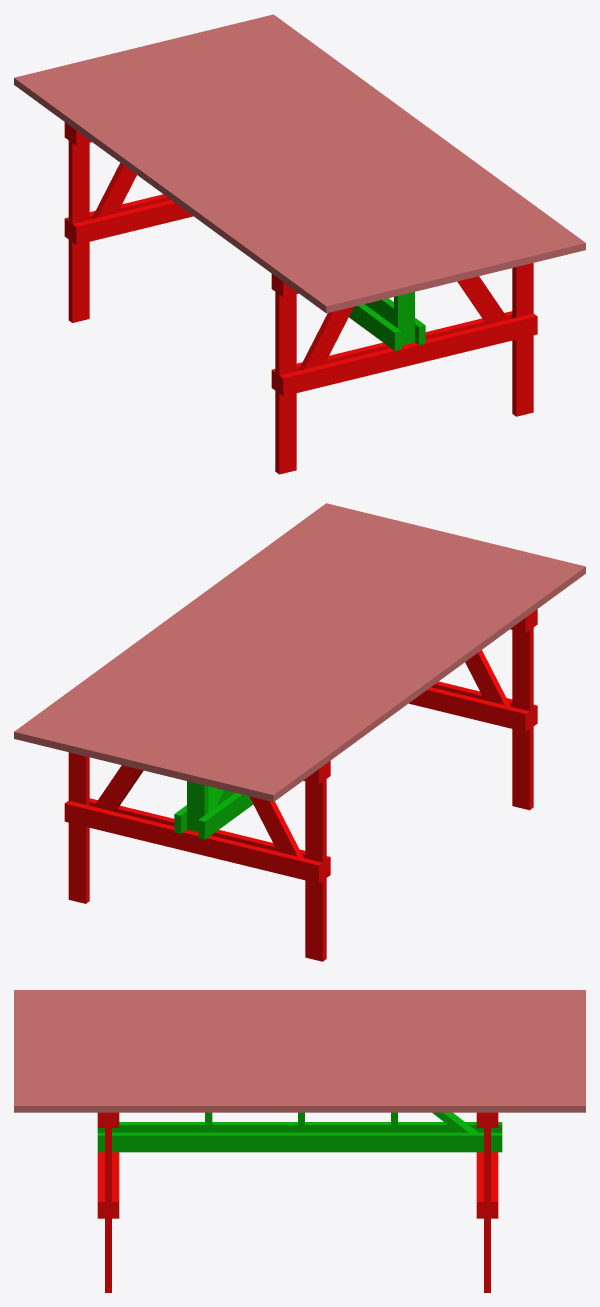
File: result.glb
The picture shows the model from 3 angles, top to bottom: view 1: azimuth 30°, elevation 25°; view 2: azimuth 150°, elevation 25°; view 3: azimuth 270°, elevation 25°; orthographic projection. The views are drawn at different scales.
Parts seen in each view (by area): view 1: ff30fadf-9fd4-4460-b9af-528bba397c96__Box, ecfba4b0-eb19-46f8-b625-1f164b38d694__sideH, f0267dfd-1396-4410-a234-d0a5b7590a91__undefined, c6a15cda-03ce-4eae-a5df-9830ccdbe96c__undefined, 0d041573-73fd-4c3e-86c7-4be7f45e7525__undefined, fd6624e3-aabb-444b-9470-ac1059b74ae4__undefined, b656d0b0-bee2-47a8-992f-ea572095d2c0__undefined, 45e07be2-b159-4d17-8b0f-6de6e1b23dd9__undefined, d5cece6e-28a9-4035-b784-eeb7340c6a91__undefined, b7d380f0-2ca9-485d-a0a3-1e6de936ee43__undefined, 65f79339-eb21-4aed-aa20-7c1461109333__undefined, ffa52356-f528-431c-ac40-7137b44c8f38__undefined (+15 smaller); view 2: ff30fadf-9fd4-4460-b9af-528bba397c96__Box, ed7a1a37-656c-497f-8932-6e6e6306face__undefined, f0267dfd-1396-4410-a234-d0a5b7590a91__undefined, ffa52356-f528-431c-ac40-7137b44c8f38__undefined, cba48144-3858-4e5d-9fff-8bc1c705c9df__undefined, d5cece6e-28a9-4035-b784-eeb7340c6a91__undefined, 65f79339-eb21-4aed-aa20-7c1461109333__undefined, 06f55df5-beb8-47b3-9442-8da3eeb8afaa__undefined, 0d041573-73fd-4c3e-86c7-4be7f45e7525__undefined, fd6624e3-aabb-444b-9470-ac1059b74ae4__undefined, b656d0b0-bee2-47a8-992f-ea572095d2c0__undefined, b7d380f0-2ca9-485d-a0a3-1e6de936ee43__undefined (+14 smaller); view 3: ffa52356-f528-431c-ac40-7137b44c8f38__undefined, ca68fd7f-96bd-4a73-a2cf-4c4941e26a8e__strutH, cba48144-3858-4e5d-9fff-8bc1c705c9df__undefined, c6a15cda-03ce-4eae-a5df-9830ccdbe96c__undefined, f6a6006f-34bd-4ca8-b8a2-3bc26f44ac62__undefined, 06f55df5-beb8-47b3-9442-8da3eeb8afaa__undefined, f0267dfd-1396-4410-a234-d0a5b7590a91__undefined, b656d0b0-bee2-47a8-992f-ea572095d2c0__undefined, ff30fadf-9fd4-4460-b9af-528bba397c96__Box, 45e07be2-b159-4d17-8b0f-6de6e1b23dd9__undefined, d5cece6e-28a9-4035-b784-eeb7340c6a91__undefined, b7d380f0-2ca9-485d-a0a3-1e6de936ee43__undefined (+12 smaller).
Boxes of the visible parts, x1,y1,x2,y2 form: ff30fadf-9fd4-4460-b9af-528bba397c96__Box: (14, 73, 343, 313); ecfba4b0-eb19-46f8-b625-1f164b38d694__sideH: (279, 313, 537, 396); f0267dfd-1396-4410-a234-d0a5b7590a91__undefined: (187, 31, 516, 270); c6a15cda-03ce-4eae-a5df-9830ccdbe96c__undefined: (101, 52, 430, 292); 0d041573-73fd-4c3e-86c7-4be7f45e7525__undefined: (153, 39, 481, 279); fd6624e3-aabb-444b-9470-ac1059b74ae4__undefined: (222, 23, 551, 262); b656d0b0-bee2-47a8-992f-ea572095d2c0__undefined: (239, 18, 568, 258); 45e07be2-b159-4d17-8b0f-6de6e1b23dd9__undefined: (31, 69, 360, 308); d5cece6e-28a9-4035-b784-eeb7340c6a91__undefined: (66, 61, 395, 300); b7d380f0-2ca9-485d-a0a3-1e6de936ee43__undefined: (83, 56, 412, 296); 65f79339-eb21-4aed-aa20-7c1461109333__undefined: (135, 44, 464, 283); ffa52356-f528-431c-ac40-7137b44c8f38__undefined: (257, 14, 585, 253); ff30fadf-9fd4-4460-b9af-528bba397c96__Box: (256, 562, 585, 801); ed7a1a37-656c-497f-8932-6e6e6306face__undefined: (64, 800, 322, 883); f0267dfd-1396-4410-a234-d0a5b7590a91__undefined: (83, 520, 412, 759); ffa52356-f528-431c-ac40-7137b44c8f38__undefined: (14, 503, 343, 742); cba48144-3858-4e5d-9fff-8bc1c705c9df__undefined: (221, 554, 550, 793); d5cece6e-28a9-4035-b784-eeb7340c6a91__undefined: (204, 550, 533, 789); 65f79339-eb21-4aed-aa20-7c1461109333__undefined: (135, 533, 464, 772); 06f55df5-beb8-47b3-9442-8da3eeb8afaa__undefined: (100, 524, 429, 763); 0d041573-73fd-4c3e-86c7-4be7f45e7525__undefined: (118, 528, 446, 768); fd6624e3-aabb-444b-9470-ac1059b74ae4__undefined: (48, 511, 377, 751); b656d0b0-bee2-47a8-992f-ea572095d2c0__undefined: (31, 507, 360, 747); b7d380f0-2ca9-485d-a0a3-1e6de936ee43__undefined: (187, 545, 516, 784); ffa52356-f528-431c-ac40-7137b44c8f38__undefined: (14, 1098, 585, 1112); ca68fd7f-96bd-4a73-a2cf-4c4941e26a8e__strutH: (97, 1132, 502, 1152); cba48144-3858-4e5d-9fff-8bc1c705c9df__undefined: (14, 1005, 585, 1013); c6a15cda-03ce-4eae-a5df-9830ccdbe96c__undefined: (14, 1028, 585, 1036); f6a6006f-34bd-4ca8-b8a2-3bc26f44ac62__undefined: (14, 1036, 585, 1044); 06f55df5-beb8-47b3-9442-8da3eeb8afaa__undefined: (14, 1059, 585, 1067); f0267dfd-1396-4410-a234-d0a5b7590a91__undefined: (14, 1067, 585, 1075); b656d0b0-bee2-47a8-992f-ea572095d2c0__undefined: (14, 1090, 585, 1098); ff30fadf-9fd4-4460-b9af-528bba397c96__Box: (14, 990, 585, 997); 45e07be2-b159-4d17-8b0f-6de6e1b23dd9__undefined: (14, 998, 585, 1005); d5cece6e-28a9-4035-b784-eeb7340c6a91__undefined: (14, 1013, 585, 1020); b7d380f0-2ca9-485d-a0a3-1e6de936ee43__undefined: (14, 1021, 585, 1028).
Bounding box in the file's own units: 960 × 725 × 2000.
